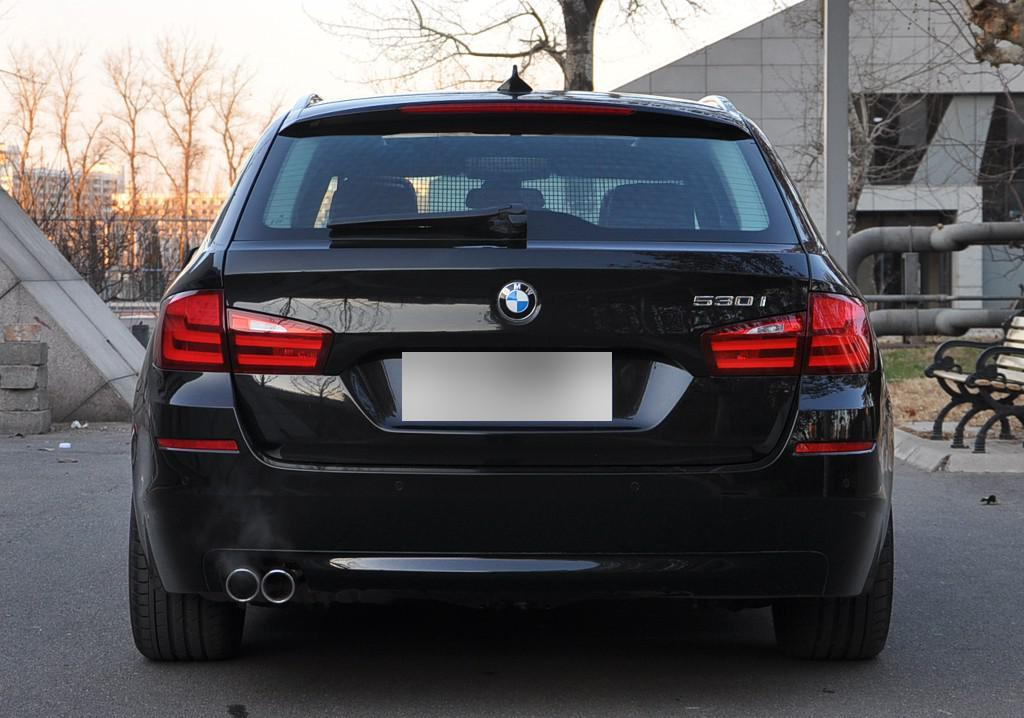Wagon: (127, 64, 895, 668)
